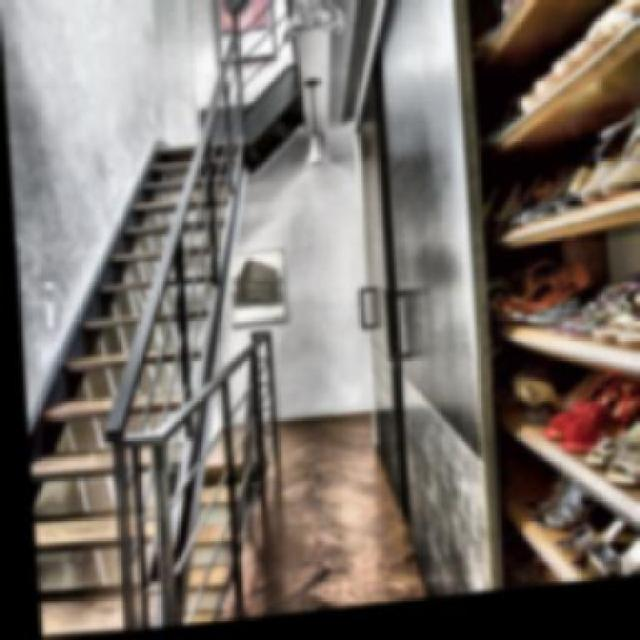stair: (14, 254, 237, 636)
